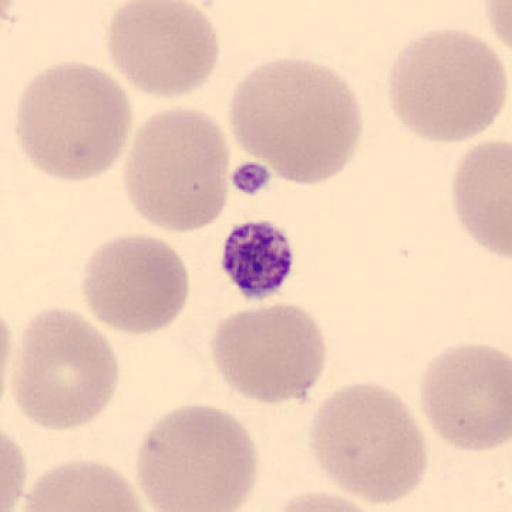Platelet: (219, 217, 297, 303)
RBC: (227, 55, 365, 188), (306, 381, 429, 508), (12, 60, 134, 184), (386, 26, 509, 145), (122, 104, 232, 235), (134, 402, 260, 512), (10, 306, 119, 432), (209, 302, 327, 406), (80, 232, 192, 336), (106, 0, 220, 99), (418, 341, 512, 453), (449, 138, 512, 260), (16, 458, 150, 512), (277, 479, 393, 511), (276, 489, 381, 512), (0, 429, 28, 512), (484, 0, 512, 48), (0, 308, 13, 399)
